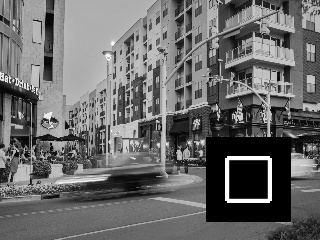square: (206, 137, 291, 222)
